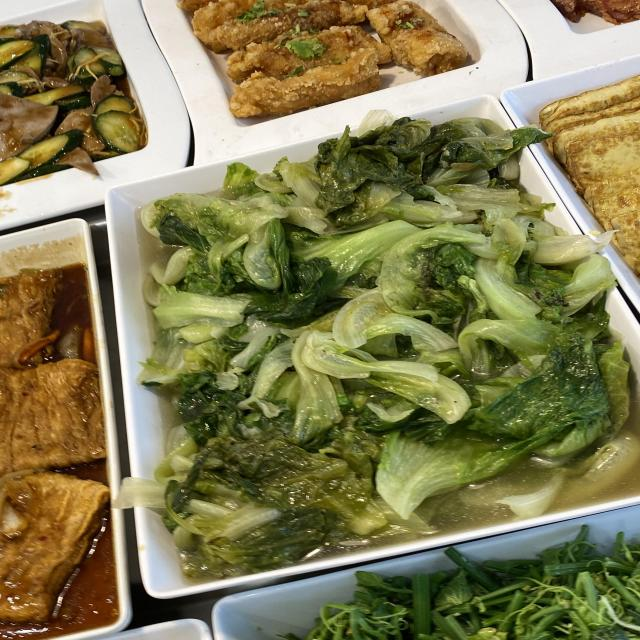Fushan-lettuce: (183, 209, 549, 485)
